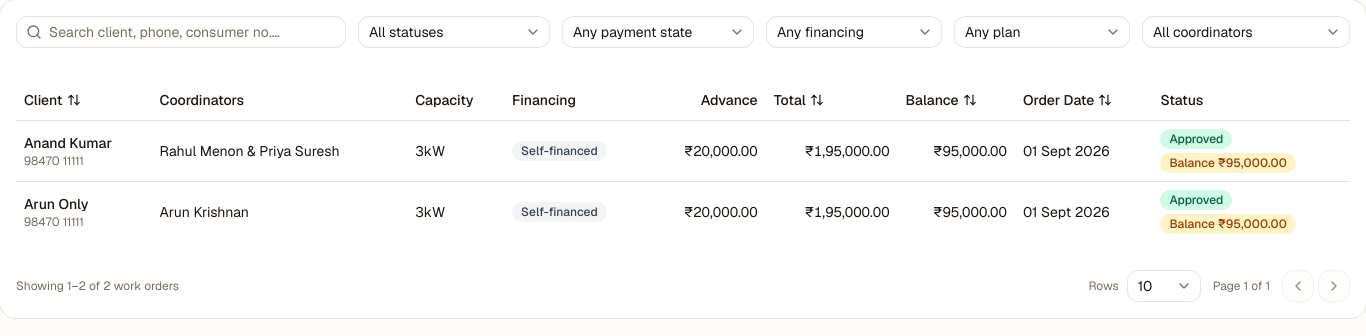
Test: WorkOrdersTable — filters › the office's coordinator filter finds a sale where that person is a partner
The image size is (1366, 336).
What coordinates should you click on to do the following:
click the dropdown labelled "All coordinators"
I would click on:
 (1246, 32)
Its box is [1142,16,1350,48].
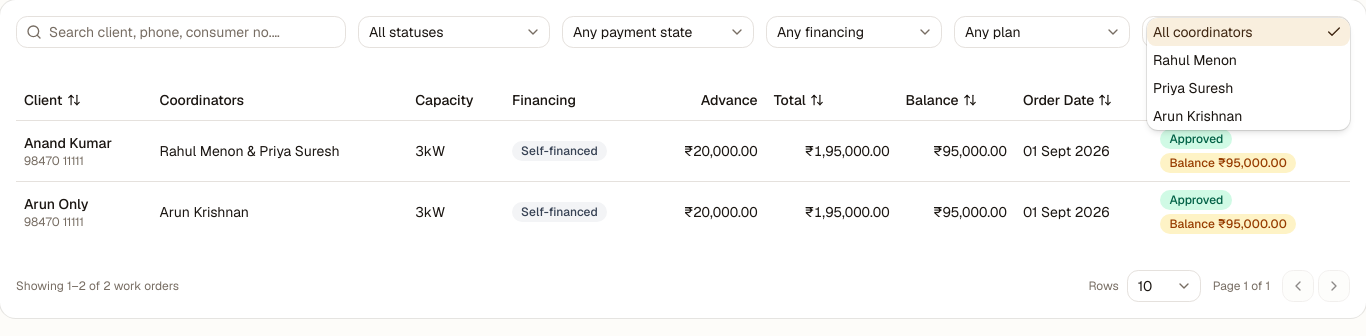
What coordinates should you click on to do the following:
click the option "Priya Suresh"
I would click on:
 (1193, 88)
Its box is [1153,79,1233,97].
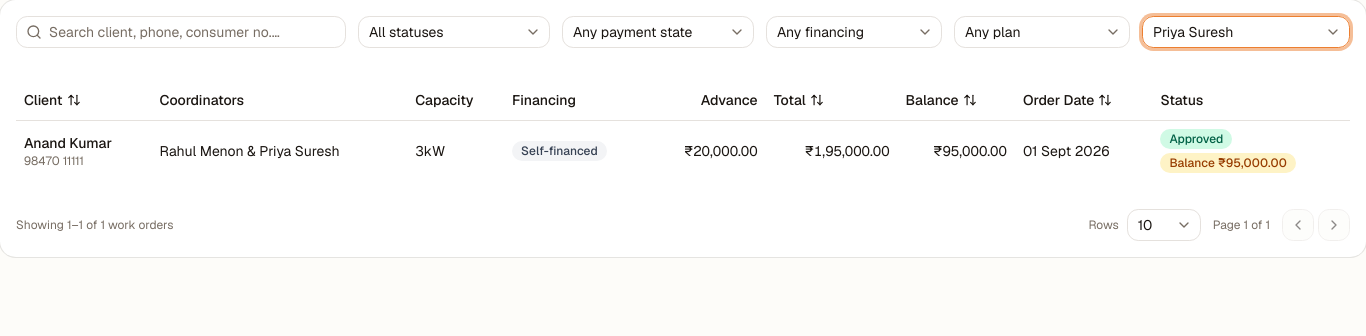
Expected: the row that starts with "Anand Kumar" is shown, [24,134,112,152]
What coordinates should you click on to do the following:
click the dropdown labelled "Priya Suresh"
I would click on:
 (1246, 32)
Its box is [1142,16,1350,48].
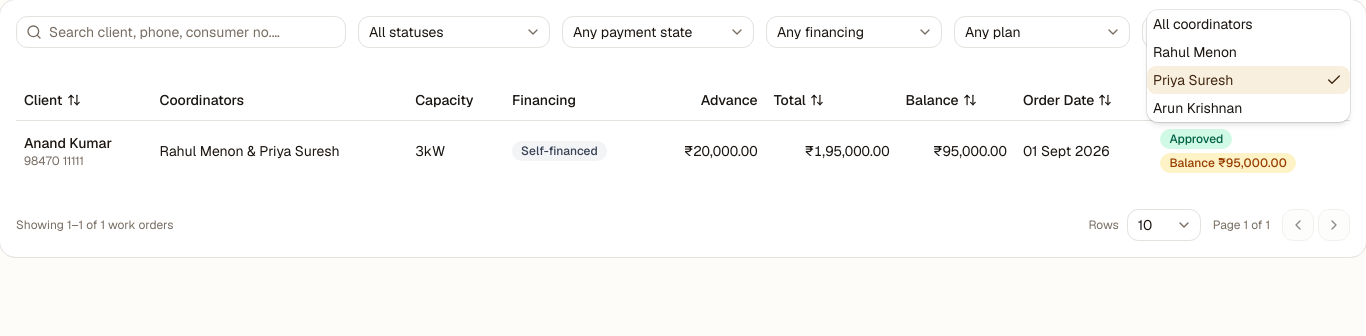
What coordinates should you click on to do the following:
click the option "Arun Krishnan"
I would click on:
 (1198, 108)
Its box is [1153,99,1242,117].
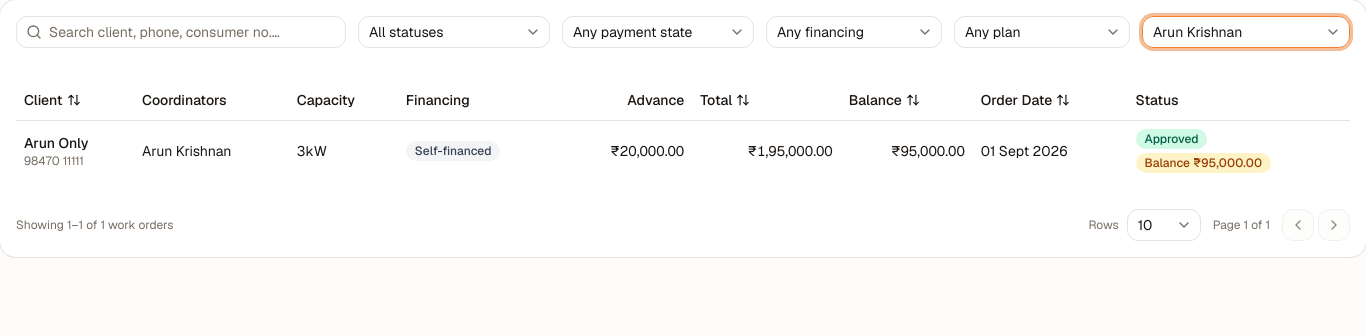
Expected: the row that starts with "Arun Only" is shown, [24,134,88,152]
